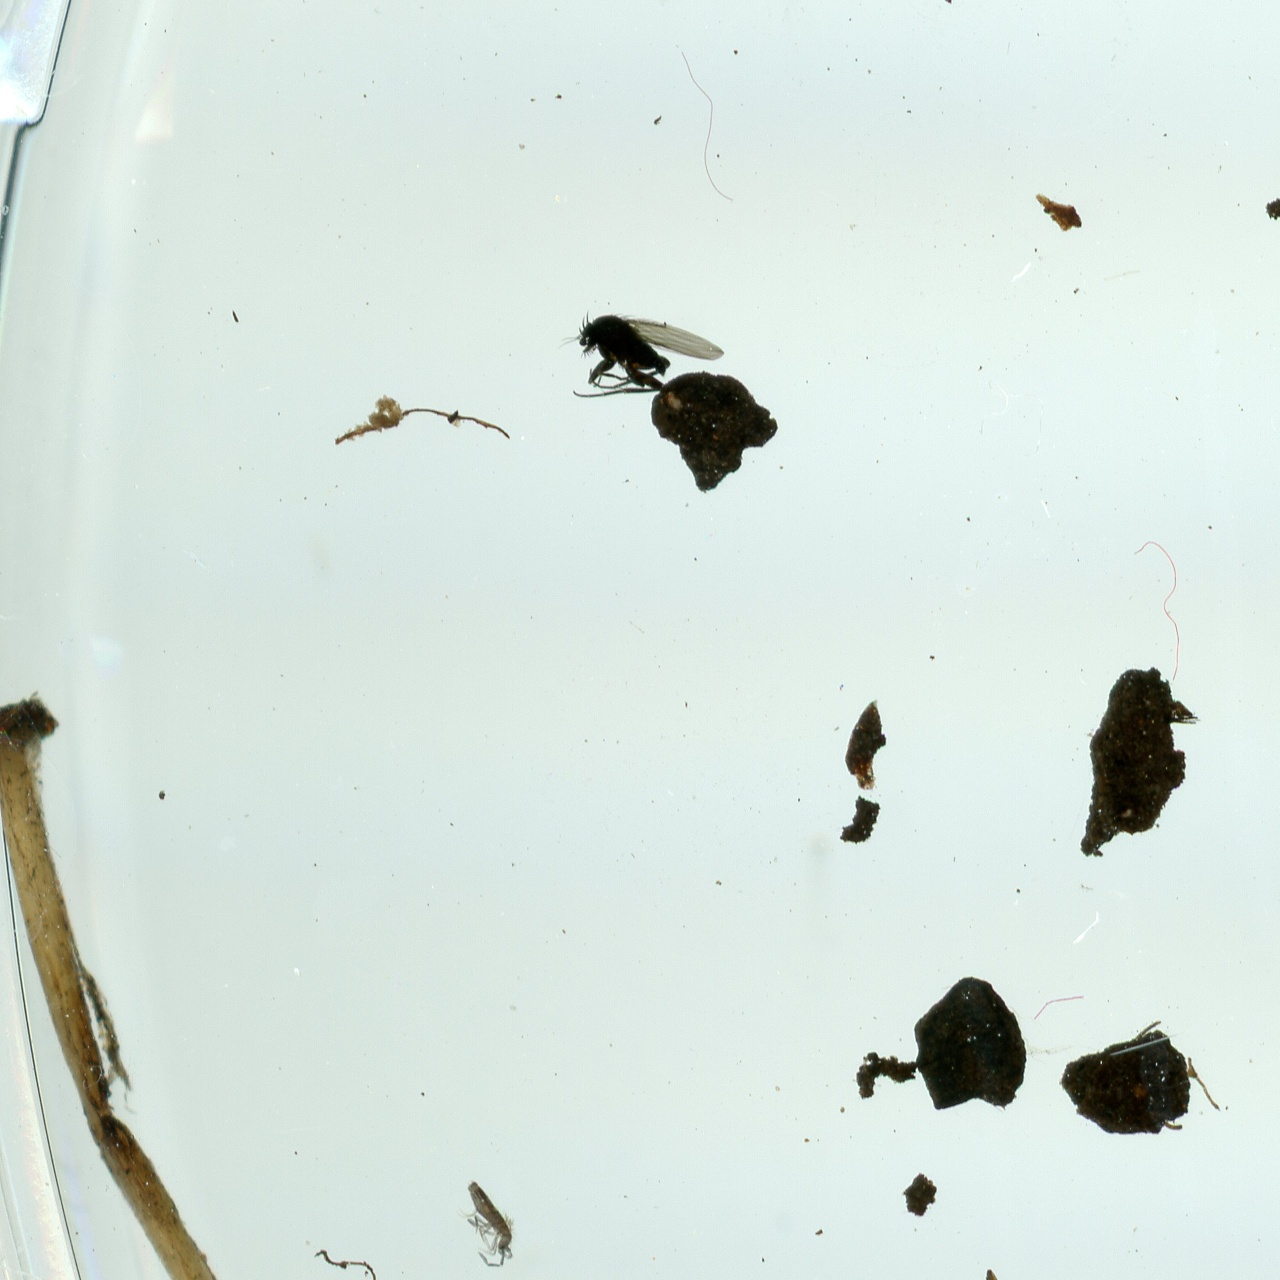arthropod: (554, 302, 726, 408), (434, 1164, 536, 1279)
